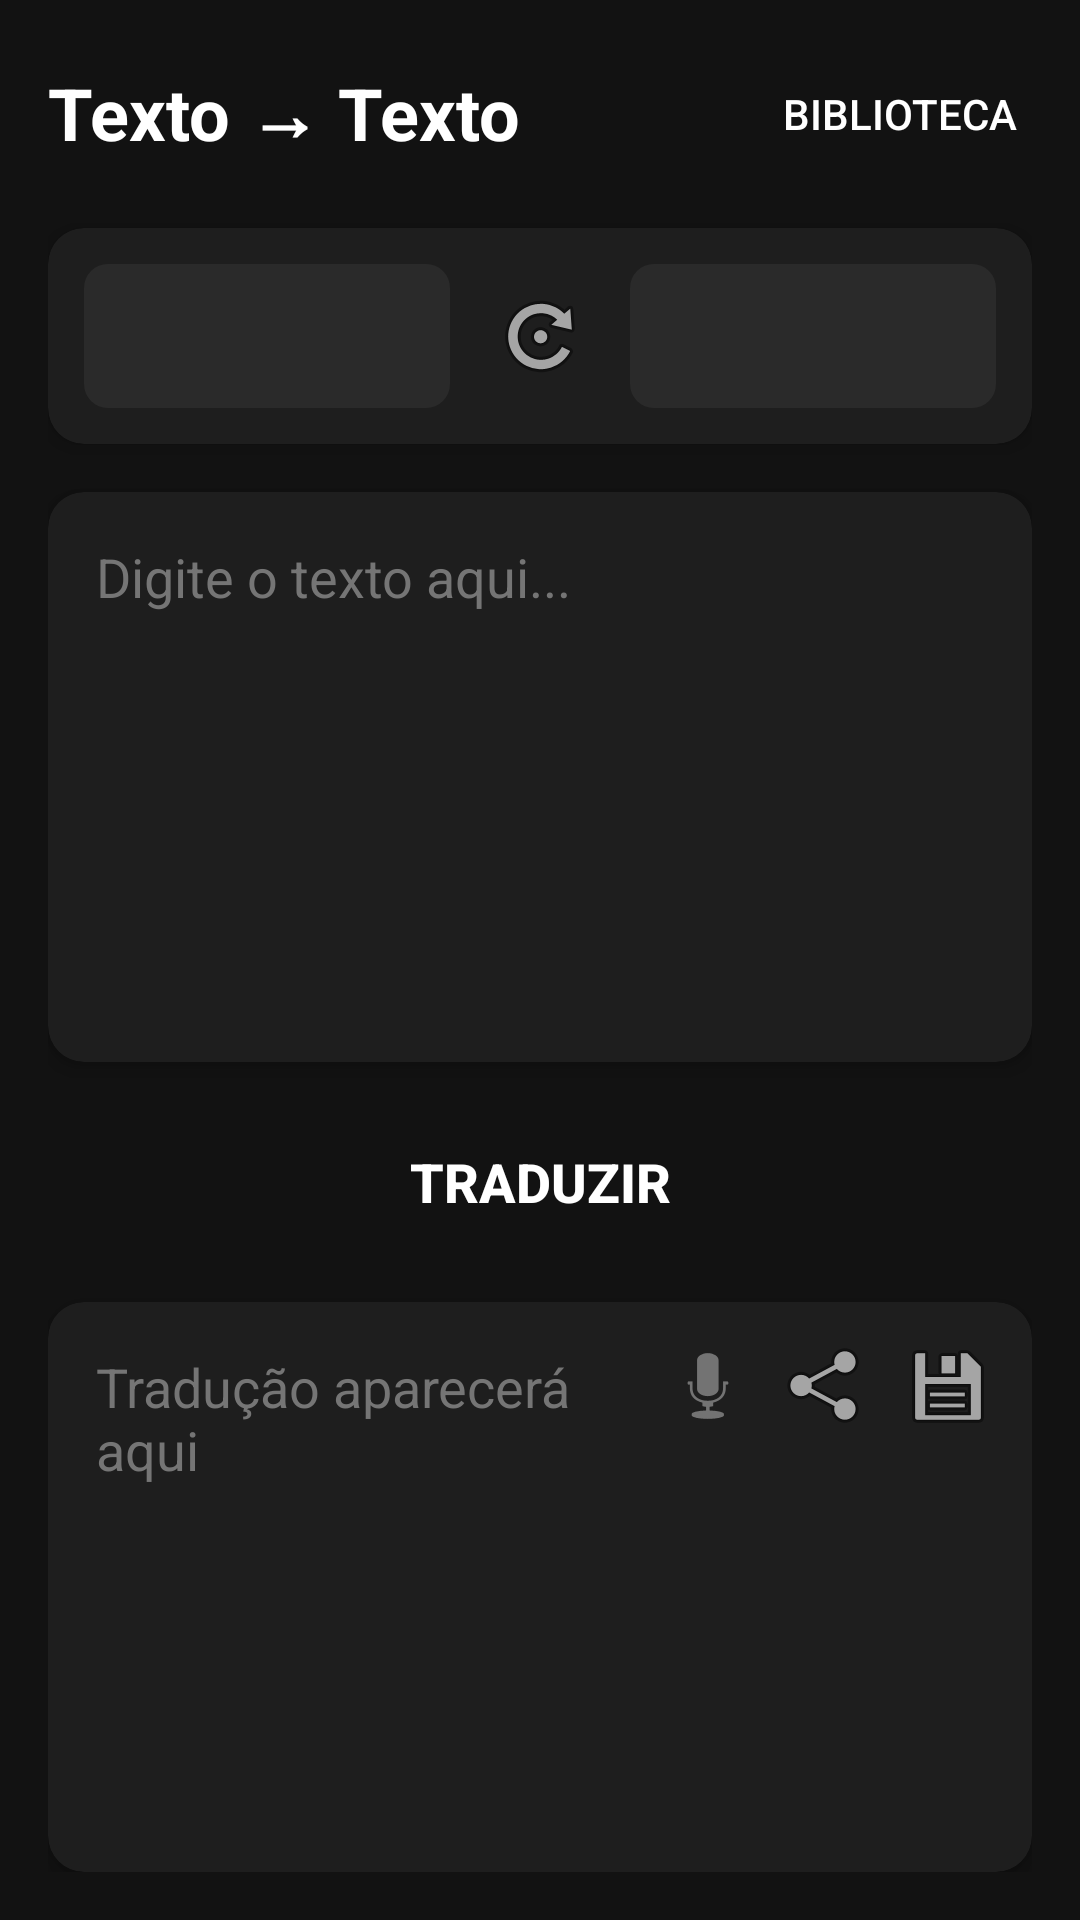

Named icons in this screenshot (1080*1920) and their bounding boxes, bbox=[x1, y1, x2, y2]:
Compartilhar: bbox=[790, 1351, 856, 1420]
Ouvir: bbox=[687, 1353, 729, 1419]
rotate: bbox=[508, 304, 572, 369]
